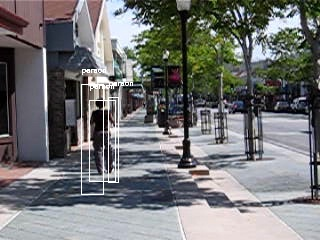person: (90, 99, 115, 177), (89, 99, 114, 177), (91, 99, 116, 177), (90, 98, 115, 176), (90, 100, 115, 178)
target_negative: (67, 114, 311, 195), (137, 27, 175, 172), (4, 120, 208, 144), (221, 64, 237, 214), (177, 216, 318, 218), (236, 214, 244, 232)
